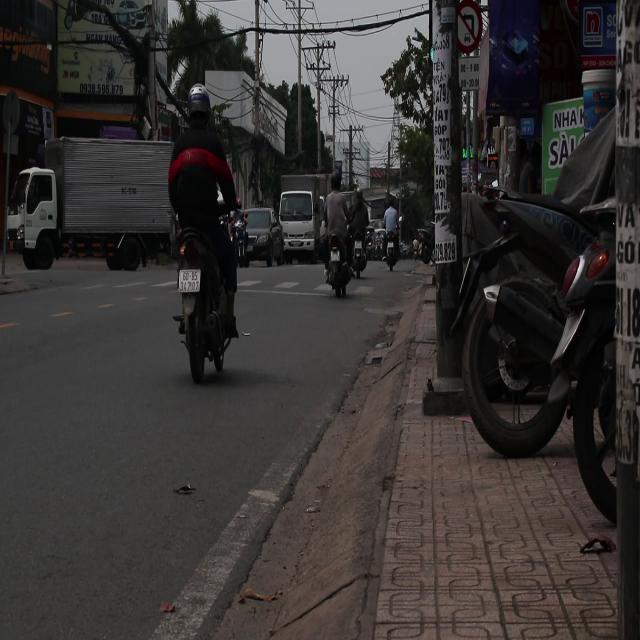car: (240, 209, 283, 265)
motorbike: (172, 218, 233, 382), (306, 212, 353, 300), (350, 214, 373, 289), (382, 233, 407, 288)
truck: (20, 132, 176, 273), (277, 174, 330, 264)
